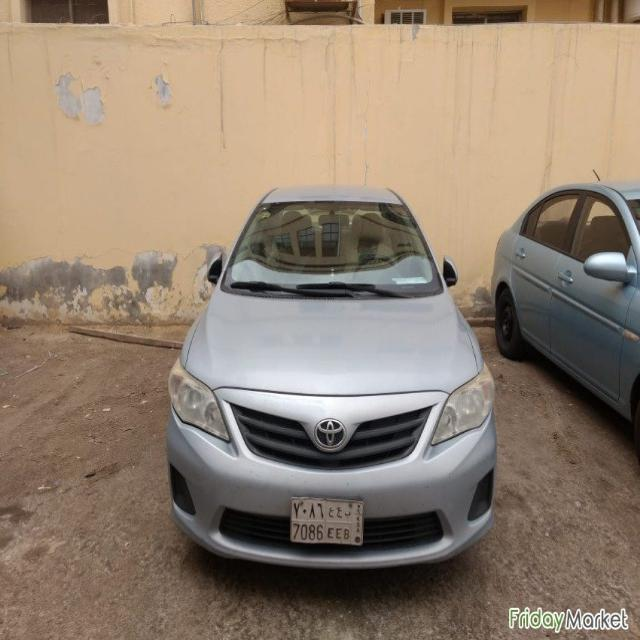license_plate: (288, 496, 366, 546)
